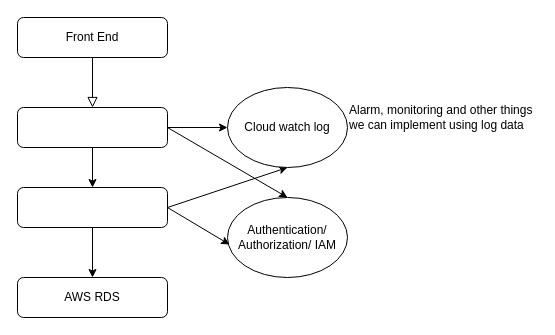
Image size: 555x335. Some labels were removed from this diagram. Each missing label, with the centre of its shape:
"API Gateway" goes at [92,127].
"Lambda" goes at [92,207].
